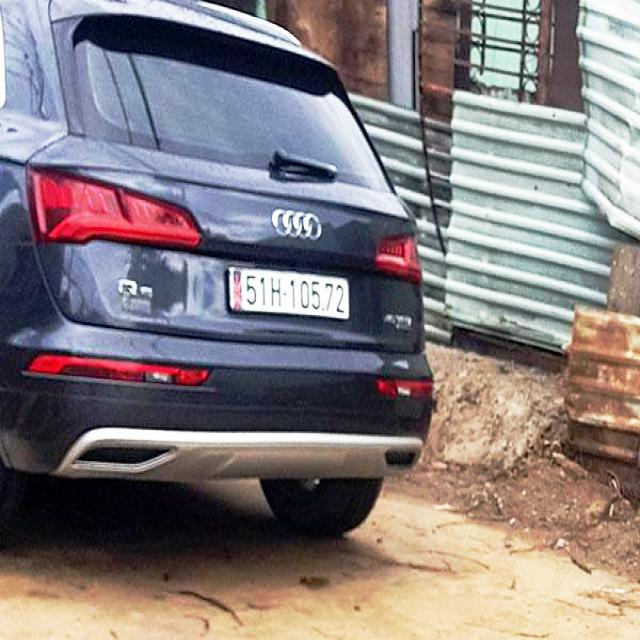license_plate: (229, 271, 350, 320)
